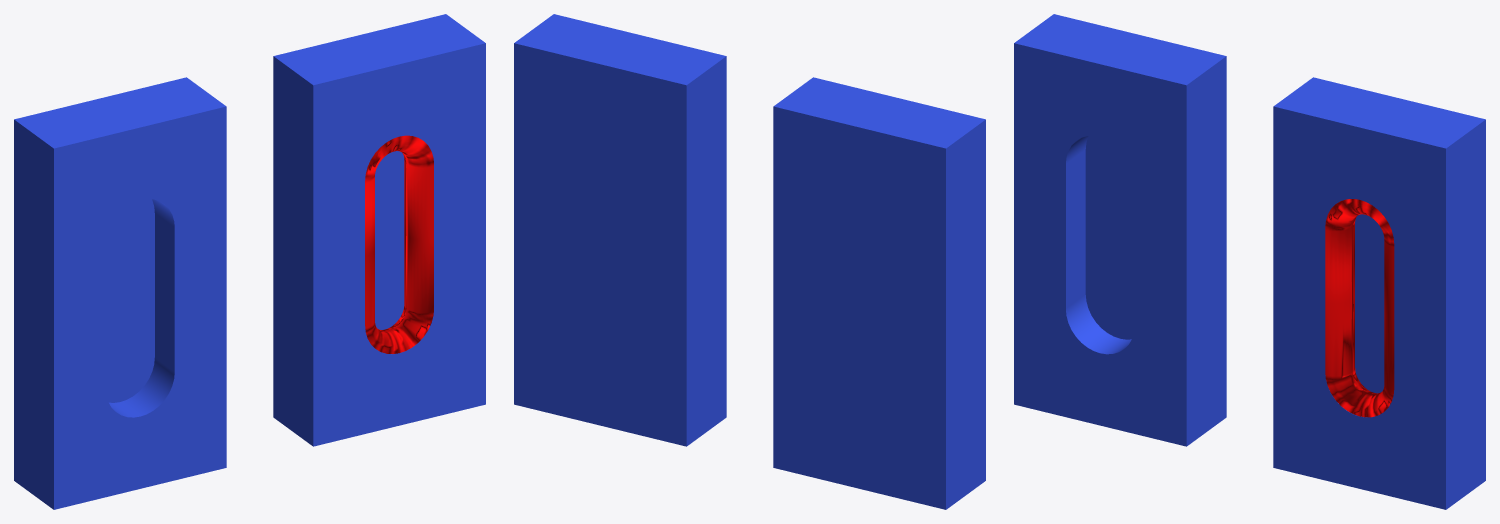
Rendered from slot joint v1 1.fbx.
3 renders of one model, left to right at view 1: azimuth 30°, elevation 25°; view 2: azimuth 150°, elevation 25°; view 3: azimuth 330°, elevation 25°, orthographic.
Visible parts, largest first — view 1: Body2, Body4, Body1, Body3, Body5; view 2: Body3, Body1, Body4, Body2; view 3: Body2, Body4, Body1, Body3, Body5.
Part boxes in pixels (x1,y1,x2,y2): Body2: (34, 92, 226, 509); Body4: (293, 28, 485, 446); Body1: (14, 77, 206, 494); Body3: (273, 14, 465, 431); Body5: (365, 135, 433, 353); Body3: (514, 28, 706, 446); Body1: (773, 92, 965, 509); Body4: (534, 14, 726, 431); Body2: (793, 77, 985, 494); Body2: (1014, 28, 1206, 446); Body4: (1273, 92, 1465, 509); Body1: (1034, 14, 1226, 431); Body3: (1293, 77, 1485, 494); Body5: (1325, 199, 1394, 417).
Size of the model in its own units: 318 by 254 by 50.8.
